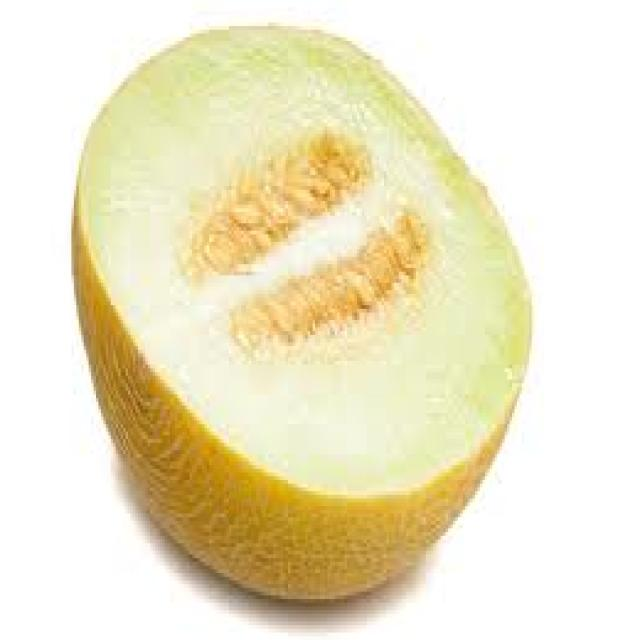melon: (69, 4, 549, 606)
